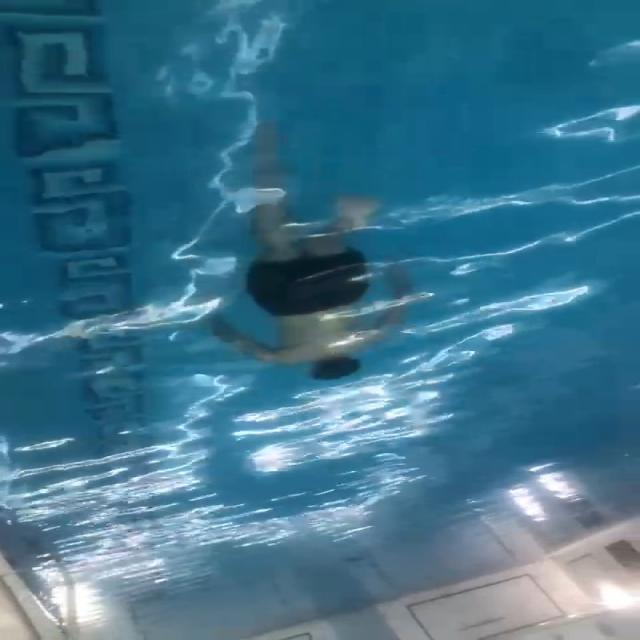Drowning: (209, 122, 418, 386)
